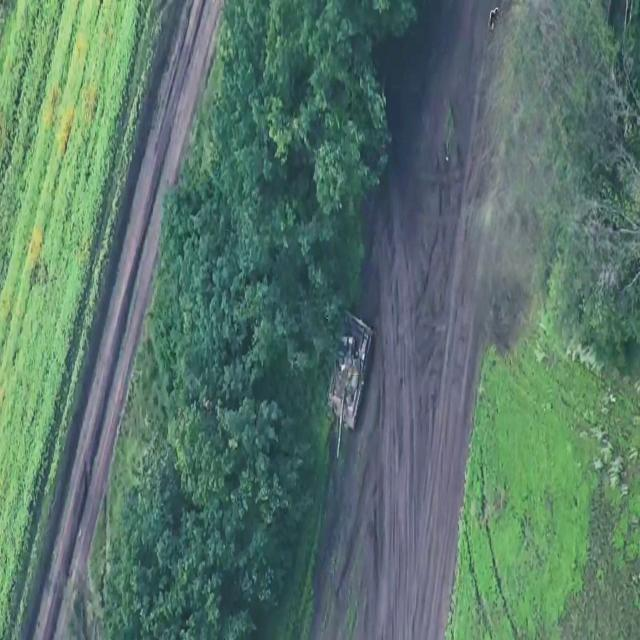MBT: (327, 309, 377, 463)
